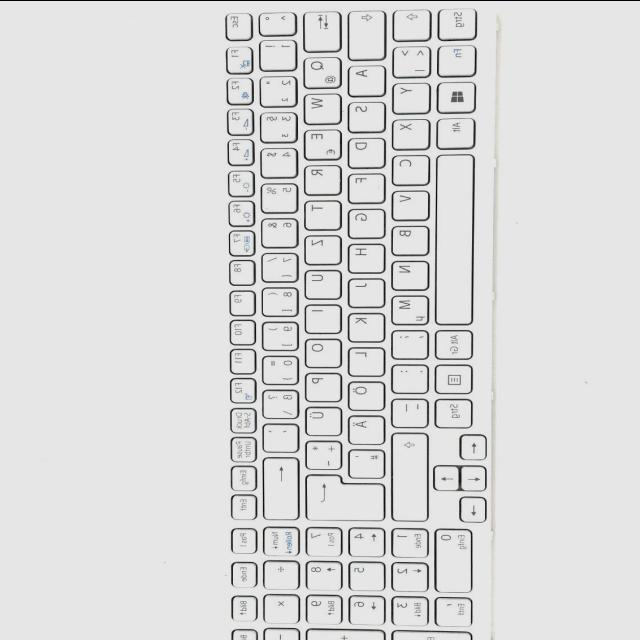0: (259, 353, 297, 383)
1: (257, 37, 295, 69)
2: (257, 73, 295, 105)
3: (257, 109, 295, 141)
4: (257, 145, 295, 175)
5: (257, 180, 295, 210)
6: (258, 215, 296, 246)
7: (259, 251, 297, 281)
8: (259, 284, 297, 314)
9: (259, 318, 297, 348)
a: (345, 62, 384, 94)
accent: (259, 421, 297, 450)
ae: (345, 413, 383, 443)
alt-left: (434, 114, 473, 146)
altgr-right: (432, 327, 470, 357)
b: (388, 222, 426, 253)
c: (389, 151, 428, 183)
caret: (256, 9, 294, 33)
comma: (388, 327, 426, 357)
d: (345, 135, 384, 165)
del: (259, 454, 297, 518)
e: (302, 127, 340, 158)
enter: (303, 471, 383, 519)
f: (345, 171, 383, 201)
g: (345, 206, 383, 236)
h: (345, 240, 383, 270)
hash: (345, 447, 383, 476)
i: (301, 302, 339, 331)
j: (345, 276, 383, 305)
k: (345, 310, 383, 340)
keyboard: (217, 0, 493, 640)
l: (345, 345, 383, 374)
less: (389, 43, 429, 76)
m: (388, 292, 426, 323)
minus: (388, 395, 426, 425)
n: (388, 257, 426, 287)
o: (302, 335, 340, 365)
oe: (345, 378, 383, 408)
p: (301, 369, 339, 399)
plus: (302, 438, 340, 468)
point: (388, 361, 426, 391)
q: (300, 54, 340, 86)
r: (302, 163, 340, 193)
s: (345, 99, 383, 130)
shift-left: (389, 6, 429, 38)
shift-lock: (345, 8, 384, 58)
shift-right: (388, 429, 426, 519)
space: (432, 151, 472, 322)
ss: (260, 386, 296, 416)
strg-left: (435, 5, 475, 38)
strg-right: (432, 396, 470, 426)
t: (302, 198, 340, 228)
tab: (300, 9, 340, 50)
u: (302, 267, 340, 297)
ue: (302, 404, 340, 434)
v: (389, 187, 427, 218)
w: (300, 90, 340, 122)
x: (389, 116, 427, 147)
y: (389, 80, 428, 112)
z: (302, 233, 340, 263)
